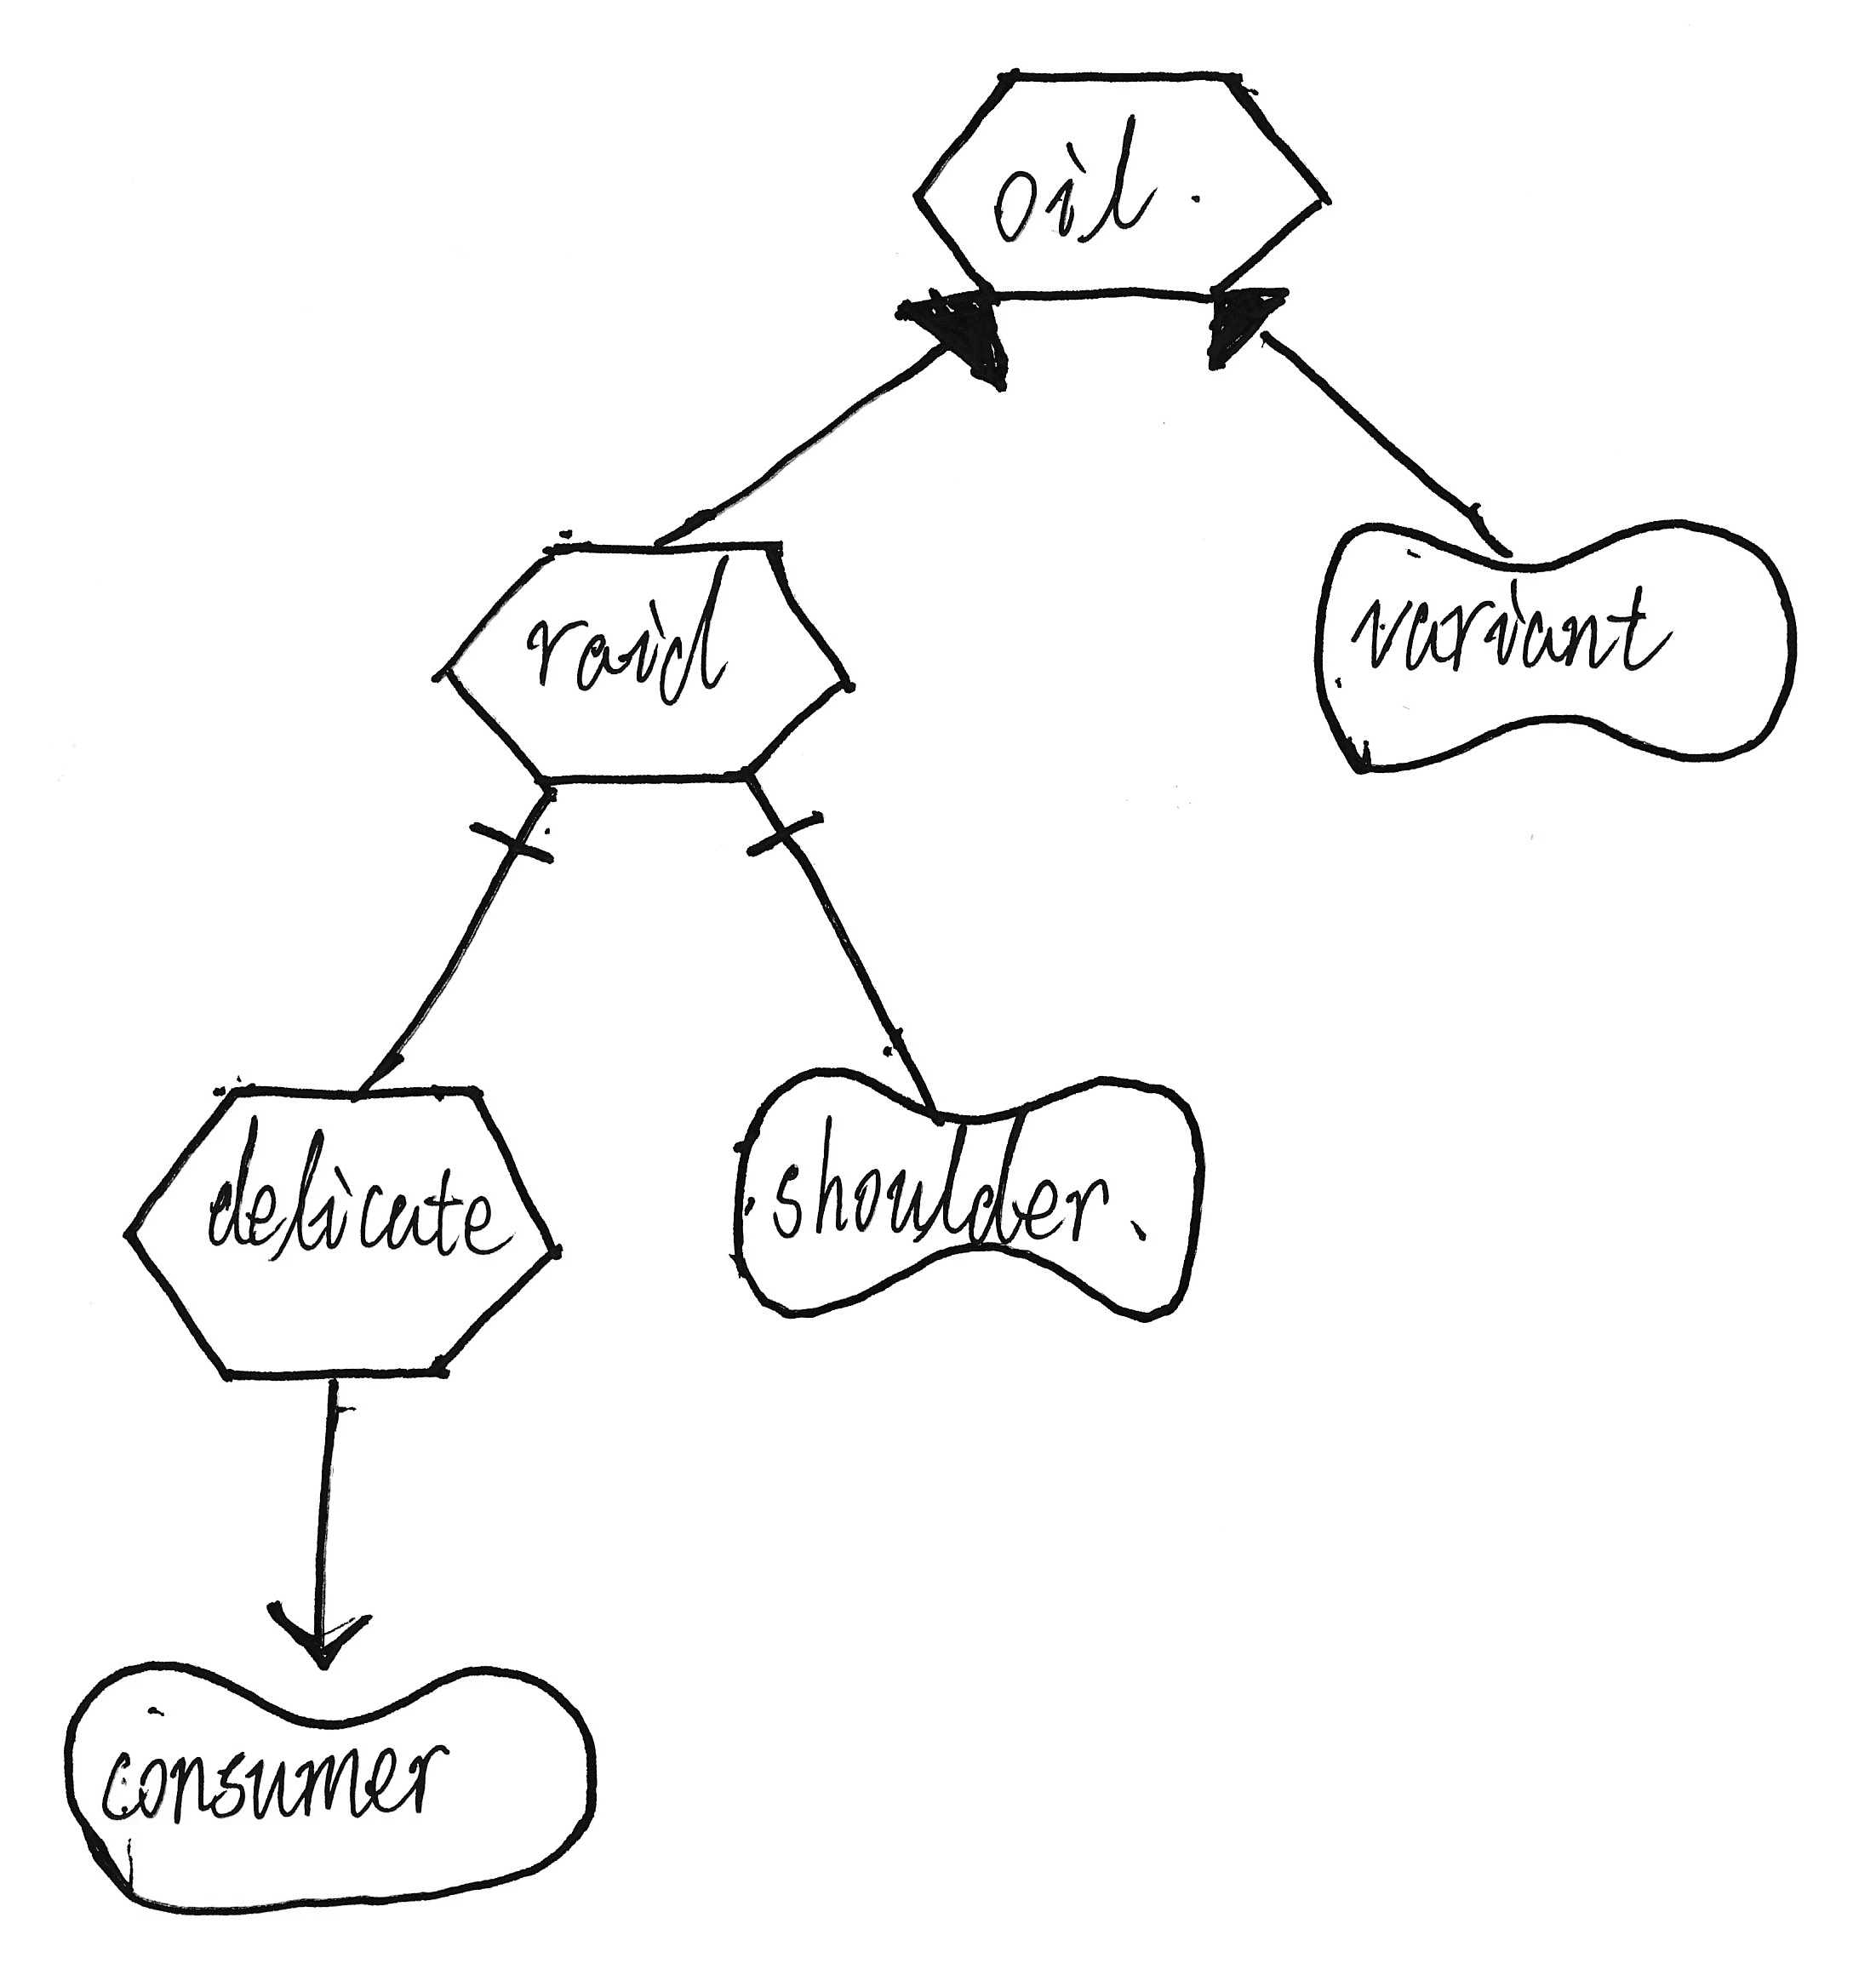and: (714, 795, 859, 892), (450, 792, 582, 889)
arrow: (245, 1564, 388, 1686)
or: (878, 272, 1019, 409), (1194, 279, 1305, 391)
quality: (49, 1643, 617, 1927), (1294, 503, 1816, 790), (712, 1047, 1222, 1331)
task: (109, 1063, 580, 1405), (416, 522, 887, 804), (894, 46, 1365, 319)
